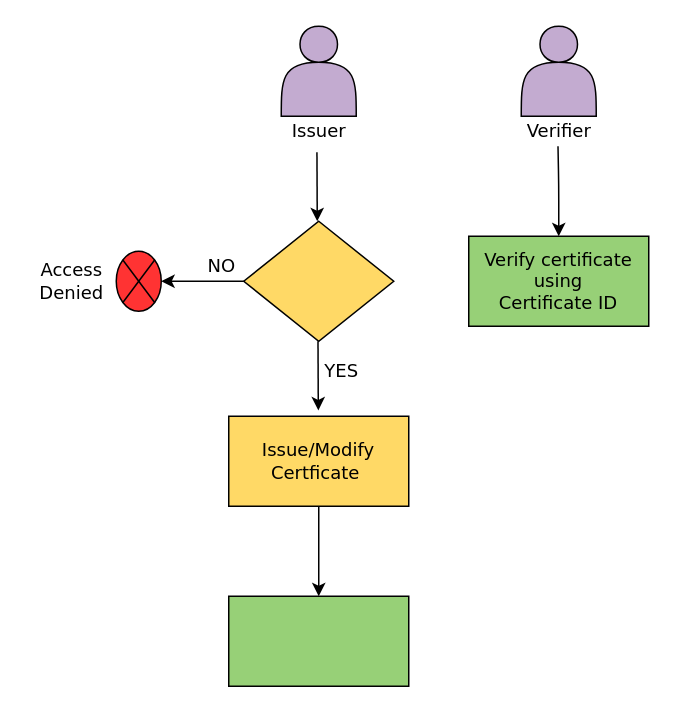
The diagram is 675 pixels wide and 713 high, and some of its shapes have lost their labels. The box of each missing label's shape, as (x1, y1, x2, y2) in pixels:
Authorised Issuer ?: (242, 220, 394, 341)
Certificate transfered to holder: (227, 595, 409, 686)
